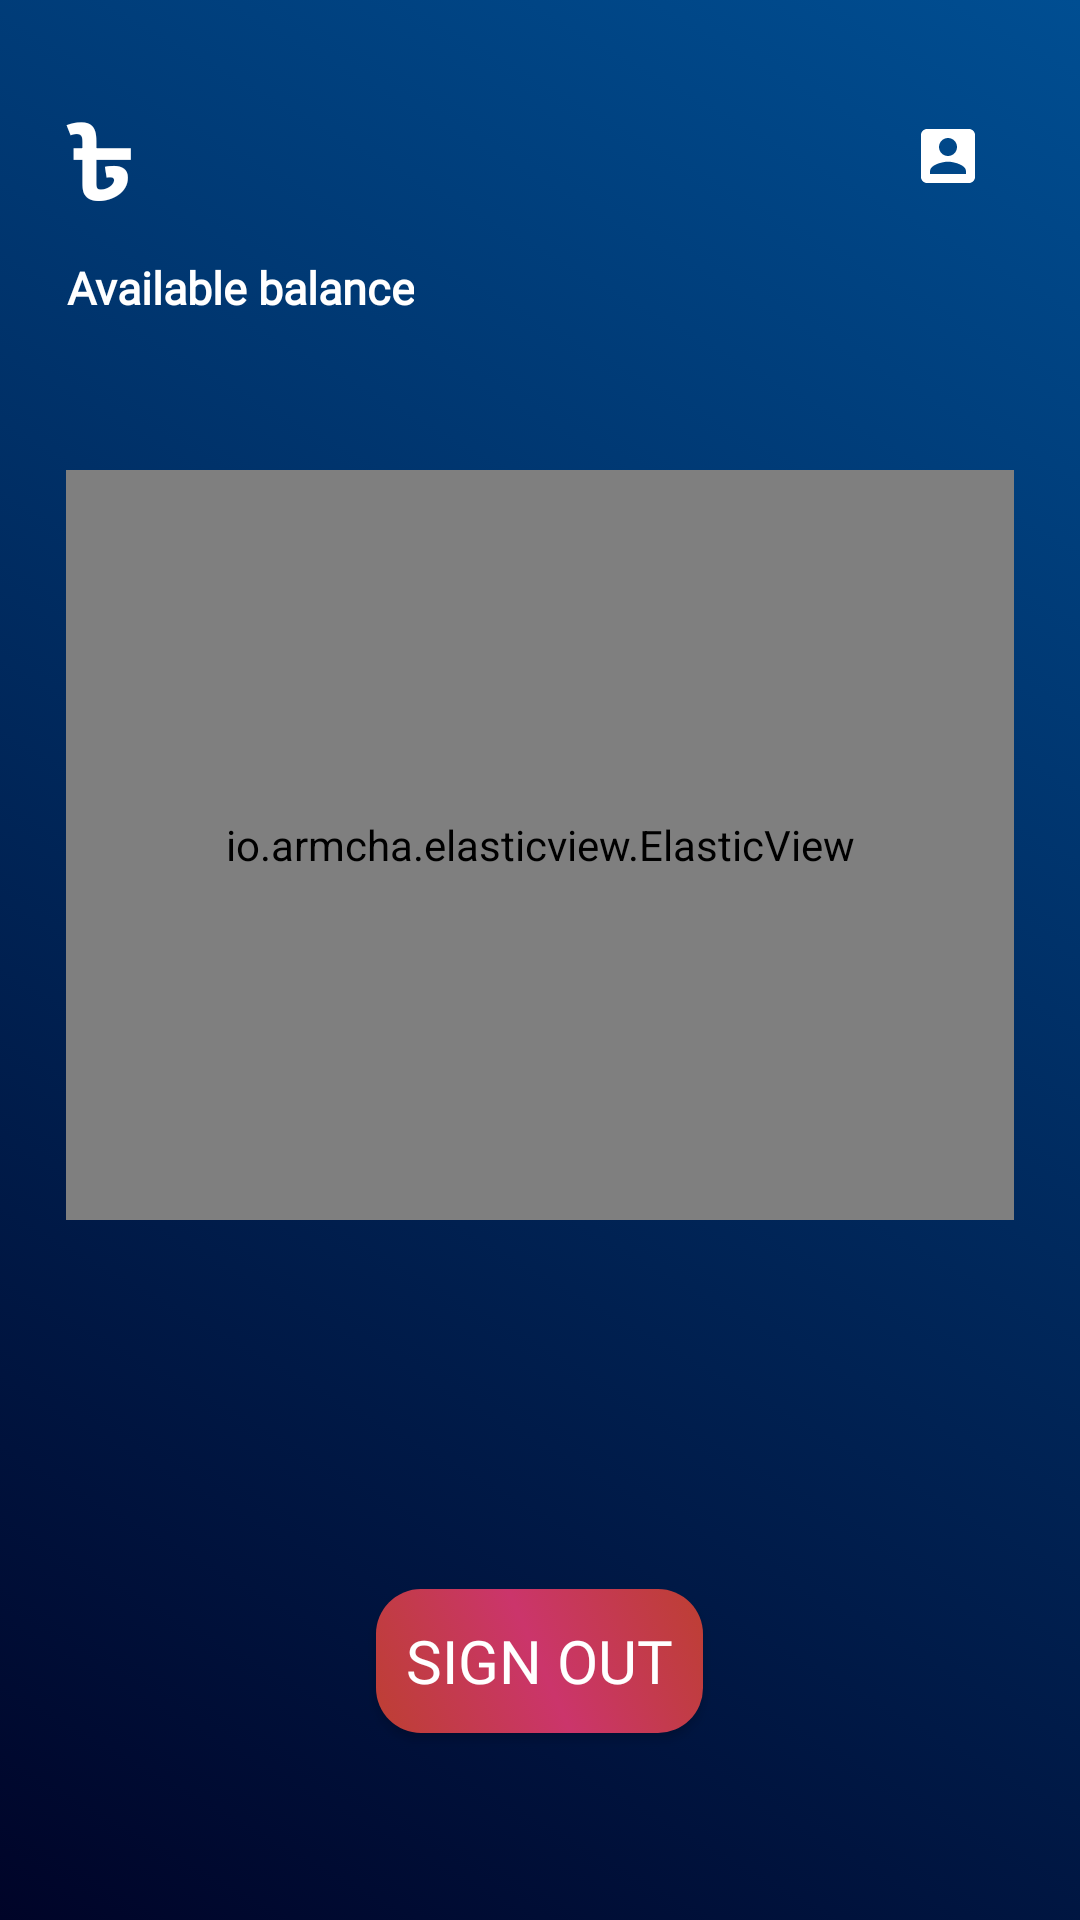

Where icons sit on this 1080×1920 app screen, as (x1, y1, x2, y2):
Supposed to be profile picture: (921, 129, 975, 183)
